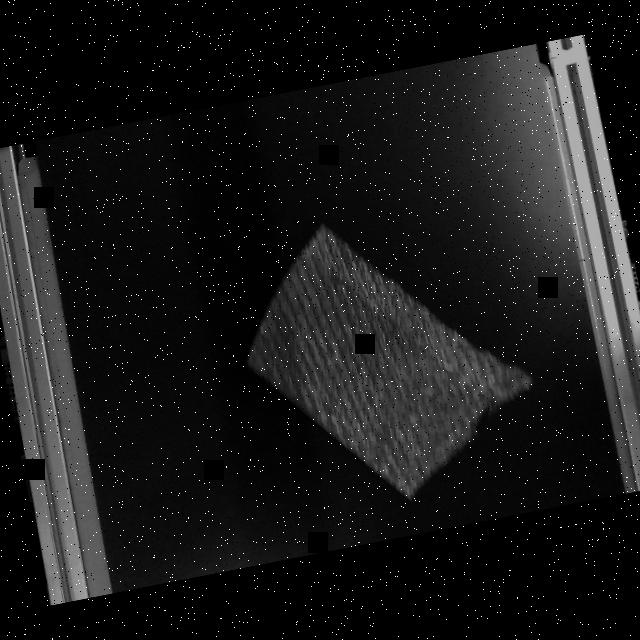scrap_plastic: (222, 192, 552, 528)
